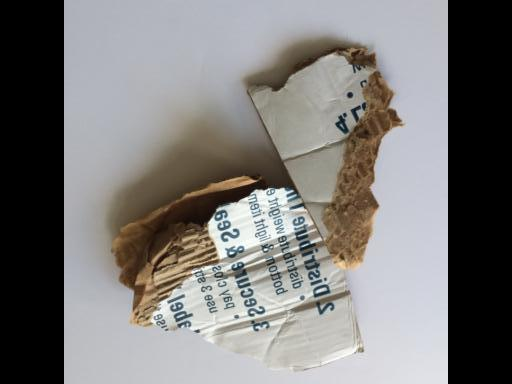cardboard: (109, 42, 406, 371)
trash: (110, 42, 407, 374)
